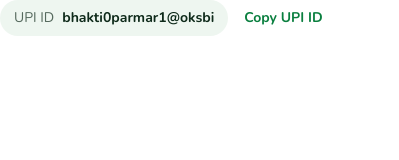
Test: UpiIdPill › copies the UPI ID and announces "Copied"; the button name stays put
Click the button "Copy UPI ID" at (283, 18), box top-left (244, 8), bottom-right (323, 28)
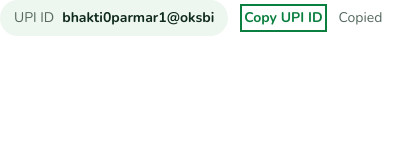
Check: the message reads "Copied", box top-left (339, 8), bottom-right (382, 27)
